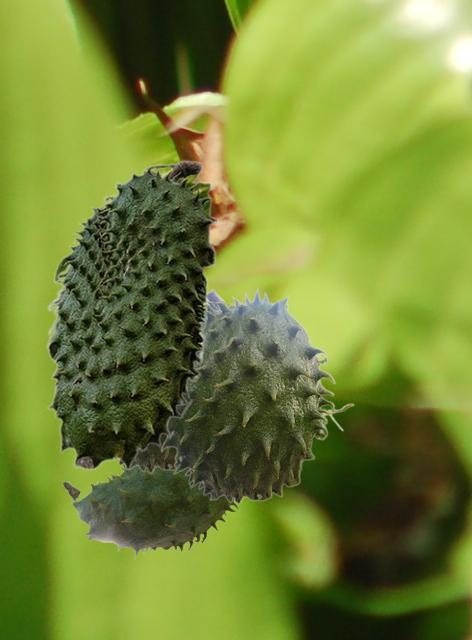guyabano: (45, 159, 217, 470), (160, 286, 354, 504), (62, 465, 240, 558), (118, 435, 175, 473)
